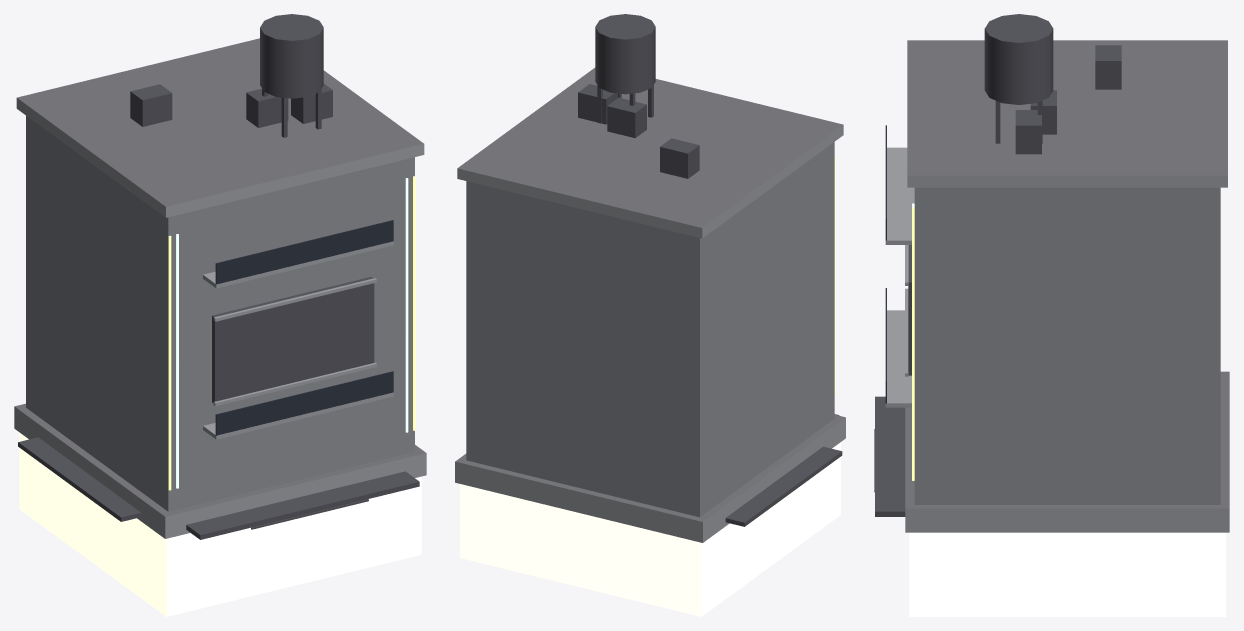
File: s12_shophouse.glb
The picture shows the model from 3 angles, left to right: view 1: azimuth 30°, elevation 25°; view 2: azimuth 150°, elevation 25°; view 3: azimuth 270°, elevation 25°; orthographic projection. The views are drawn at different scales.
Parts seen in each view (by area): view 1: s12_shophouse; view 2: s12_shophouse; view 3: s12_shophouse.
Boxes of the visible parts, x1=… form: s12_shophouse: x1=14, y1=14, x2=426, y2=616; s12_shophouse: x1=455, y1=14, x2=845, y2=616; s12_shophouse: x1=874, y1=14, x2=1229, y2=616.
Bounding box in the file's own units: 13.25 × 22.9 × 13.49.
